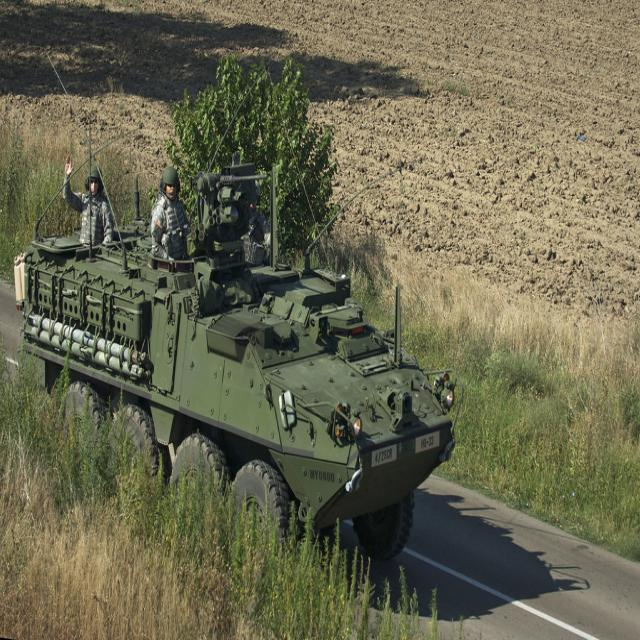tank: (18, 54, 456, 566)
